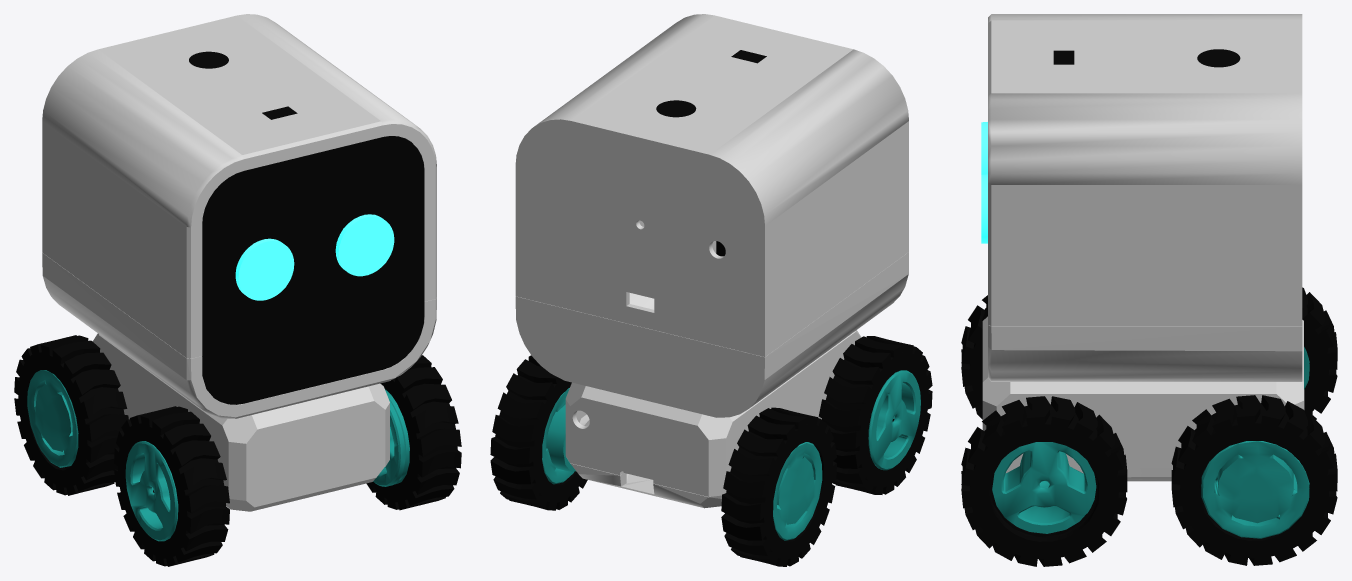
The model's file is bot2.glb.
3 renders of one model, left to right at view 1: azimuth 30°, elevation 25°; view 2: azimuth 150°, elevation 25°; view 3: azimuth 270°, elevation 25°, orthographic. The views are drawn at different scales.
Parts seen in each view (by area): view 1: topCase, frontPannel, botClosingCase, tyre2, botMiddleCase, tyre1, tyre4, tyreCase2, tyreCase1, rightEye, leftEye, botBody (+2 smaller); view 2: topCase, botMiddleCase, botClosingCase, tyre1, tyre2, tyre3, tyreCase2, tyreCase1, botBody, tyreCase3, topCase.002; view 3: topCase, botMiddleCase, tyre4, tyre3, botClosingCase, tyreCase3, tyreCase4, tyre1, tyre2, botBody, topCase.002, rightEye.
Part boxes in pixels (x1,y1,x2,y2): topCase: (42, 14, 436, 358); frontPannel: (202, 136, 424, 404); botClosingCase: (92, 333, 389, 500); tyre2: (114, 406, 229, 566); botMiddleCase: (42, 253, 436, 418); tyre1: (14, 335, 128, 495); tyre4: (366, 355, 461, 510); tyreCase2: (125, 441, 178, 541); tyreCase1: (27, 370, 78, 467); rightEye: (335, 214, 394, 276); leftEye: (235, 238, 294, 300); botBody: (226, 467, 383, 511); topCase: (515, 14, 908, 356); botMiddleCase: (515, 220, 908, 417); botClosingCase: (565, 330, 861, 496); tyre1: (721, 407, 836, 566); tyre2: (818, 336, 932, 494); tyre3: (490, 355, 587, 510); tyreCase2: (868, 370, 920, 470); tyreCase1: (773, 442, 822, 540); botBody: (570, 414, 721, 508); tyreCase3: (542, 388, 575, 484); topCase.002: (656, 100, 696, 117); topCase: (988, 14, 1302, 326); botMiddleCase: (988, 325, 1302, 381); tyre4: (961, 396, 1127, 566); tyre3: (1171, 395, 1337, 565); botClosingCase: (982, 316, 1303, 467); tyreCase3: (1201, 441, 1309, 538); tyreCase4: (992, 442, 1096, 533); tyre1: (1302, 287, 1337, 419); tyre2: (961, 295, 987, 419); botBody: (1006, 389, 1304, 481); topCase.002: (1197, 49, 1240, 67); rightEye: (981, 174, 987, 243).
Bounding box in the file's own units: 3.77 × 5.39 × 4.19.
